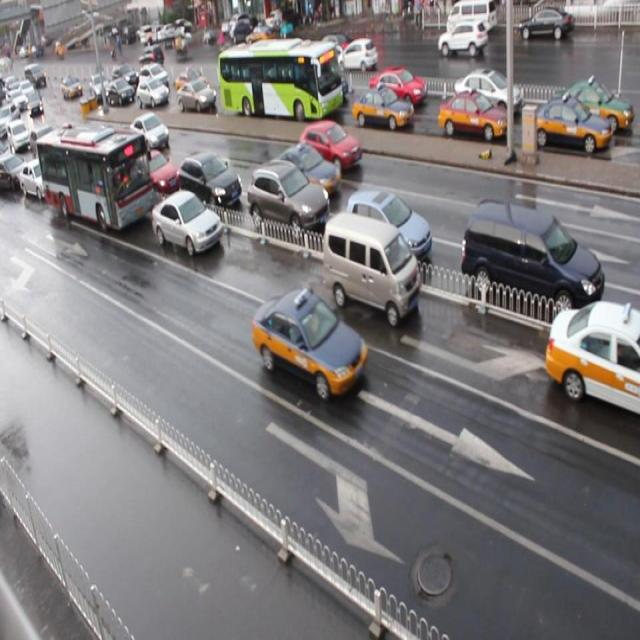car: (252, 289, 366, 401), (544, 298, 640, 413), (340, 188, 430, 272), (248, 160, 329, 233), (526, 94, 610, 154), (269, 141, 344, 205), (152, 188, 222, 256), (552, 79, 630, 134), (177, 150, 242, 208), (438, 93, 511, 144), (298, 120, 361, 174), (453, 67, 524, 114), (352, 86, 413, 132), (367, 68, 422, 110), (133, 145, 179, 194), (297, 62, 347, 105), (19, 157, 58, 202), (86, 134, 125, 174), (177, 77, 219, 113), (130, 114, 169, 152), (38, 130, 69, 171), (1, 151, 28, 193), (136, 81, 171, 109), (29, 128, 56, 162), (139, 60, 167, 92), (176, 69, 206, 95), (108, 75, 134, 104)
truck: (462, 195, 603, 326), (321, 210, 420, 326)
van: (37, 125, 155, 234), (217, 41, 341, 118)
